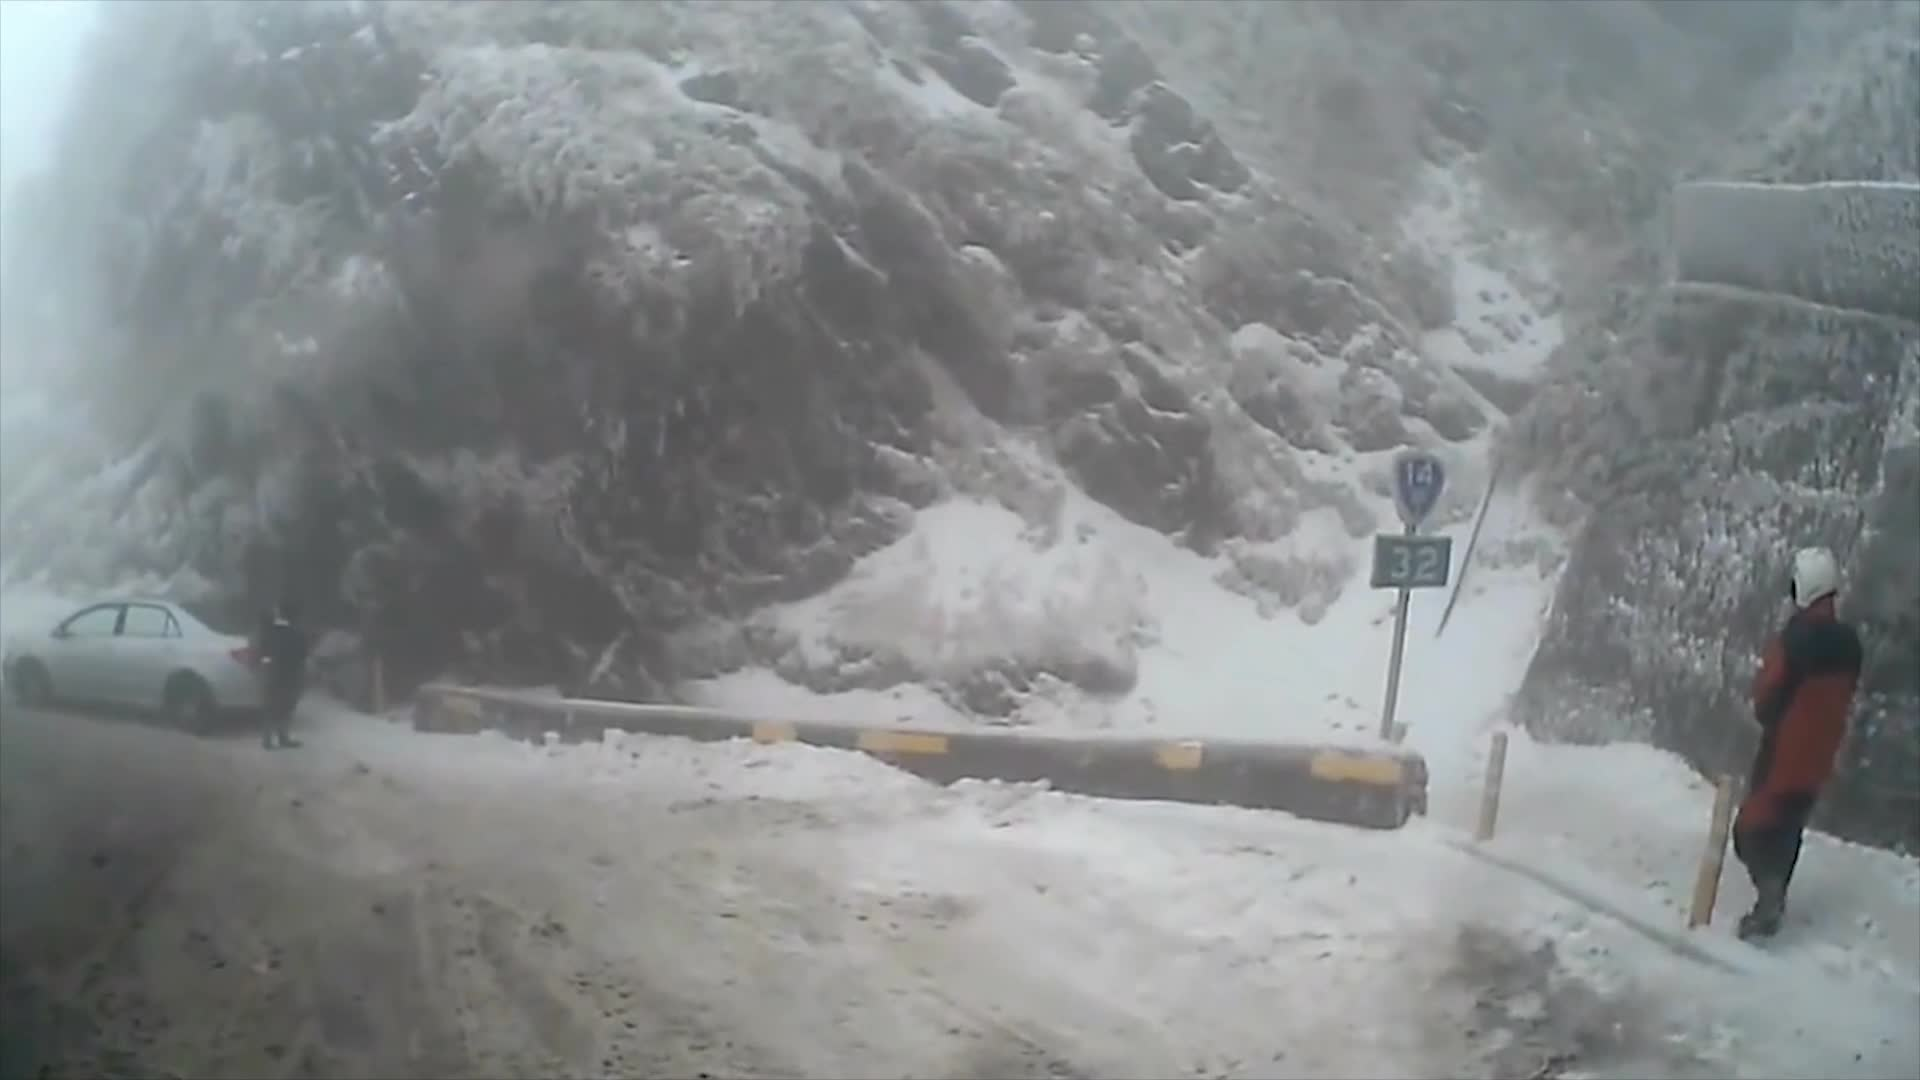pedestrian: (1724, 547, 1869, 943), (257, 597, 310, 749)
vehicle: (6, 596, 290, 737)
